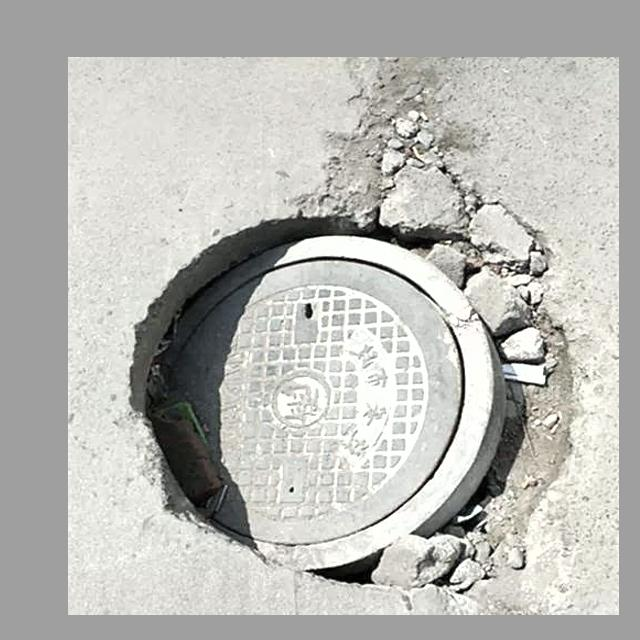circle: (131, 101, 566, 581)
